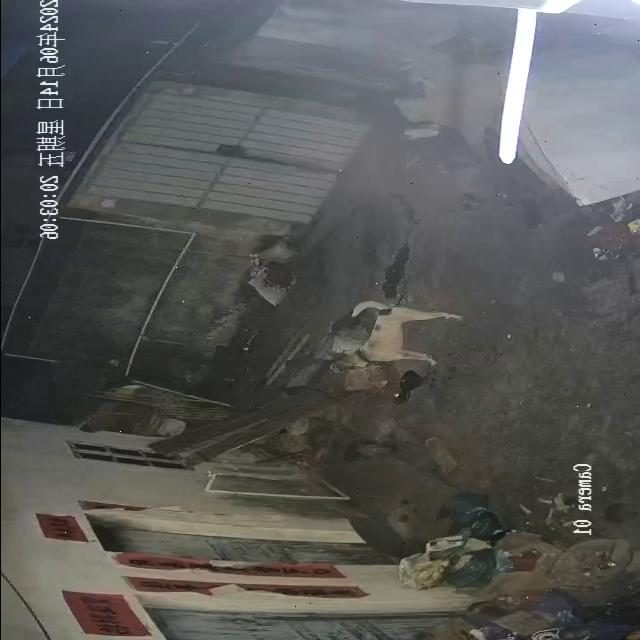dog: (314, 301, 464, 374)
